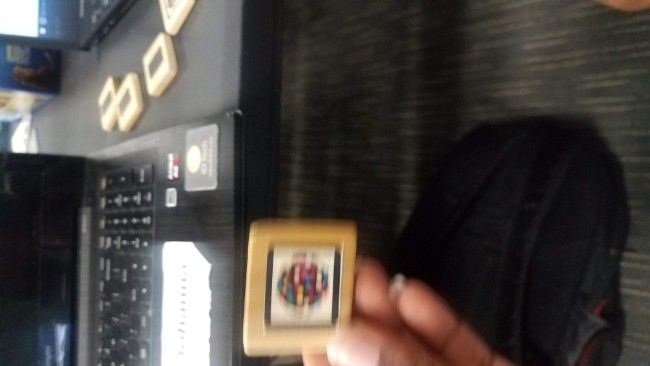cookie: (245, 223, 360, 358)
